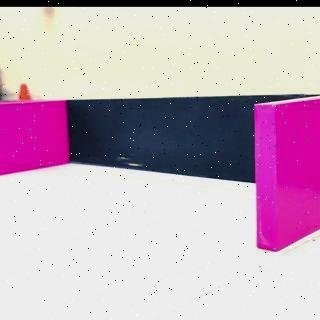xparking: (255, 105, 318, 245), (1, 104, 66, 168)
